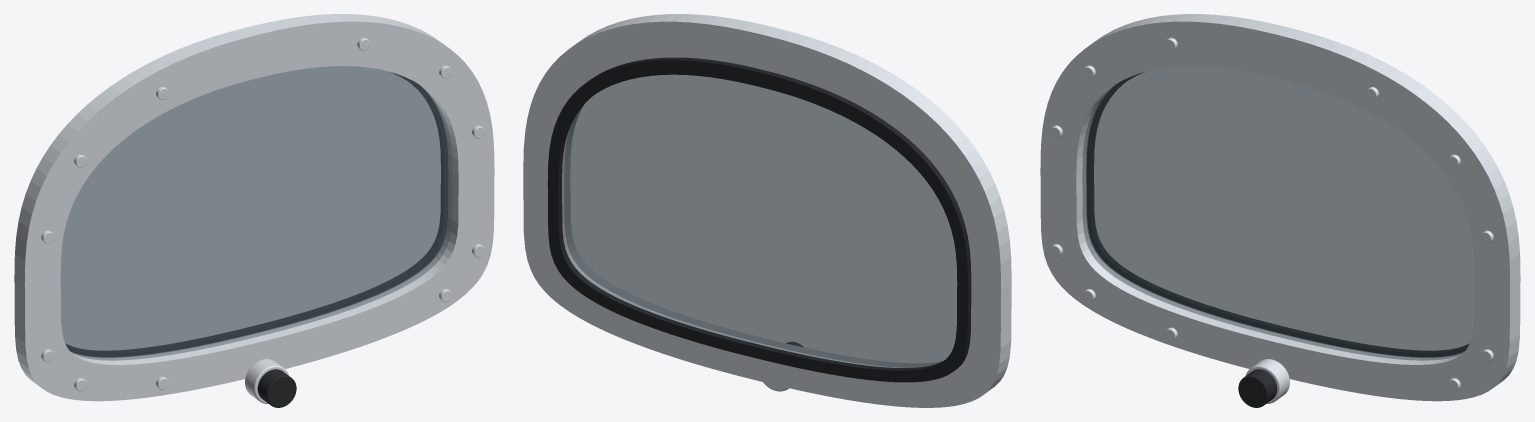
File: SL17B_FacePortAssembly_v2.glb
The picture shows the model from 3 angles, left to right: view 1: azimuth 30°, elevation 25°; view 2: azimuth 150°, elevation 25°; view 3: azimuth 330°, elevation 25°; orthographic projection.
Parts seen in each view (by area): view 1: FacePort_520-004_ESTIMATED, Port_Retainer_560-070_ESTIMATED, ViewPort_Seal_510-260_ESTIMATED, NoseBlock_Knob_550-062_ESTIMATED, NoseBlock_ExternalBoss_ESTIMATED; view 2: FacePort_520-004_ESTIMATED, Port_Retainer_560-070_ESTIMATED, ViewPort_Seal_510-260_ESTIMATED; view 3: FacePort_520-004_ESTIMATED, Port_Retainer_560-070_ESTIMATED, ViewPort_Seal_510-260_ESTIMATED, NoseBlock_Knob_550-062_ESTIMATED, NoseBlock_ExternalBoss_ESTIMATED.
Boxes of the visible parts, x1,y1,x2,y2 form: FacePort_520-004_ESTIMATED: [60, 66, 452, 360]; Port_Retainer_560-070_ESTIMATED: [14, 14, 494, 401]; ViewPort_Seal_510-260_ESTIMATED: [66, 73, 447, 356]; NoseBlock_Knob_550-062_ESTIMATED: [257, 369, 296, 407]; NoseBlock_ExternalBoss_ESTIMATED: [245, 359, 288, 403]; FacePort_520-004_ESTIMATED: [562, 74, 957, 367]; Port_Retainer_560-070_ESTIMATED: [523, 14, 1011, 407]; ViewPort_Seal_510-260_ESTIMATED: [547, 57, 971, 382]; FacePort_520-004_ESTIMATED: [1082, 66, 1474, 360]; Port_Retainer_560-070_ESTIMATED: [1040, 14, 1520, 401]; ViewPort_Seal_510-260_ESTIMATED: [1087, 73, 1468, 356]; NoseBlock_Knob_550-062_ESTIMATED: [1238, 369, 1277, 407]; NoseBlock_ExternalBoss_ESTIMATED: [1246, 359, 1289, 403].
Size of the model in its own units: 0.314 by 0.2302 by 0.043.
4 materials, 1 textured.
